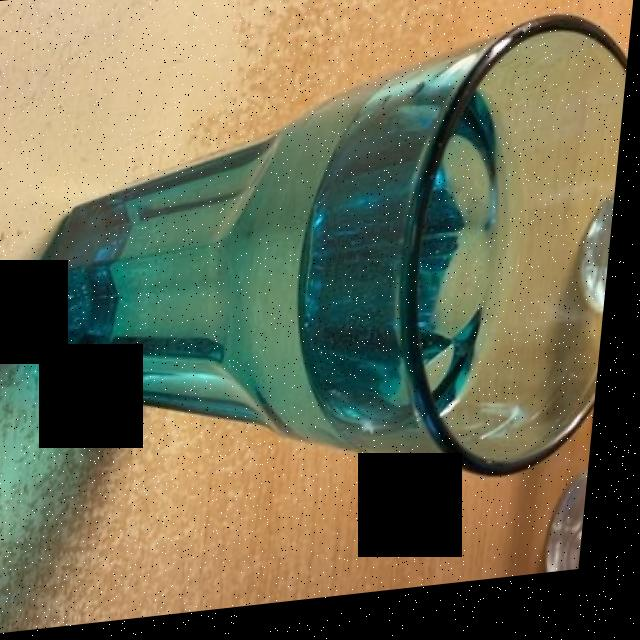water: (38, 85, 512, 457)
